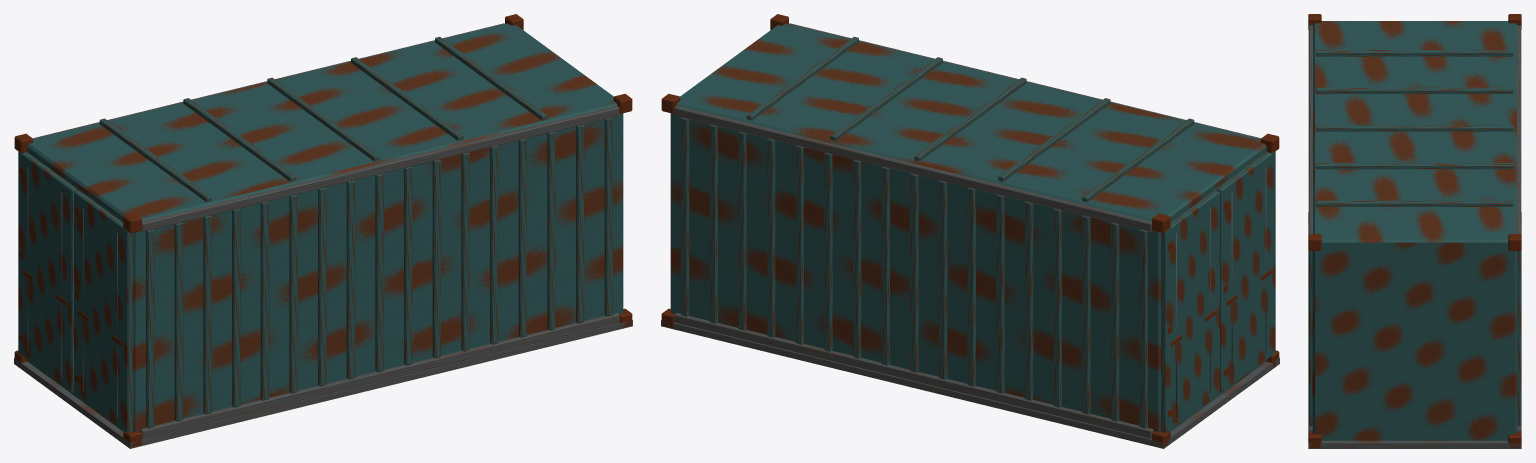
The model's file is shipping_container.glb.
3 renders of one model, left to right at view 1: azimuth 30°, elevation 25°; view 2: azimuth 150°, elevation 25°; view 3: azimuth 270°, elevation 25°, orthographic. The views are drawn at different scales.
Parts seen in each view (by area): view 1: shipping_container; view 2: shipping_container; view 3: shipping_container.
Part boxes in pixels (x1,y1,x2,y2): shipping_container: [14, 14, 632, 448]; shipping_container: [661, 14, 1279, 448]; shipping_container: [1308, 14, 1521, 448].
Size of the model in its own units: 6 by 2.6 by 2.4.
Materials: 1 (1 with a texture image).
